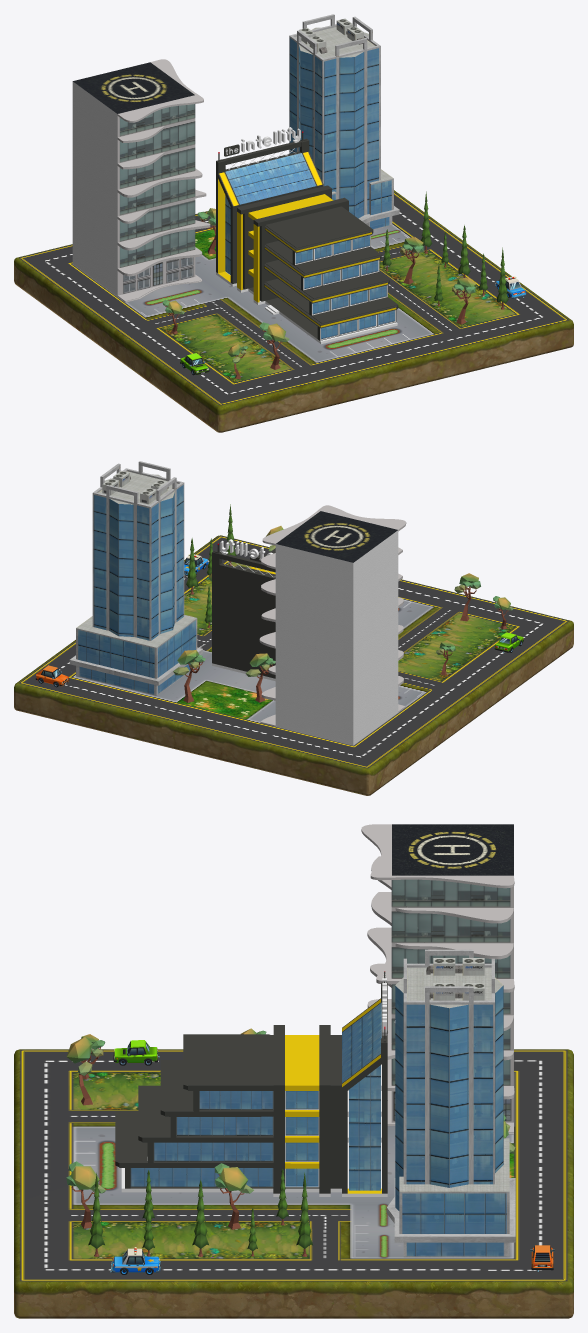
The model's file is Intellify office.fbx.
3 views of the same model, one above another, from view 1: azimuth 30°, elevation 25°; view 2: azimuth 150°, elevation 25°; view 3: azimuth 270°, elevation 25° (orthographic). The views are drawn at different scales.
Parts seen in each view (by area): view 1: Tarrian, Office_4, Theintellify_office1, Office_2, Tree; view 2: Tarrian, Office_4, Office_2, Theintellify_office1, Tree, SHTV_Model_Car_Hatchback; view 3: Tarrian, Theintellify_office1, Office_2, Office_4, Tree, SHTV_Model_Car_Police, SHTV_Model_Car_Sedan.
Part boxes in pixels (bbox=[...]): Tarrian: bbox=[14, 190, 573, 432]; Office_4: bbox=[72, 59, 210, 302]; Theintellify_office1: bbox=[216, 127, 398, 344]; Office_2: bbox=[289, 14, 399, 229]; Tree: bbox=[162, 191, 508, 378]; Tarrian: bbox=[14, 535, 573, 795]; Office_4: bbox=[259, 505, 406, 745]; Office_2: bbox=[69, 461, 202, 695]; Theintellify_office1: bbox=[212, 539, 398, 681]; Tree: bbox=[173, 504, 513, 702]; SHTV_Model_Car_Hatchback: bbox=[35, 665, 69, 686]; Tarrian: bbox=[14, 1049, 573, 1318]; Theintellify_office1: bbox=[115, 971, 387, 1196]; Office_2: bbox=[386, 949, 515, 1257]; Office_4: bbox=[361, 824, 514, 1134]; Tree: bbox=[66, 1028, 515, 1256]; SHTV_Model_Car_Police: bbox=[110, 1247, 160, 1272]; SHTV_Model_Car_Sedan: bbox=[113, 1040, 159, 1062].
Size of the model in its own units: 29.42 by 17.32 by 29.42.
10 materials, 10 textured.
